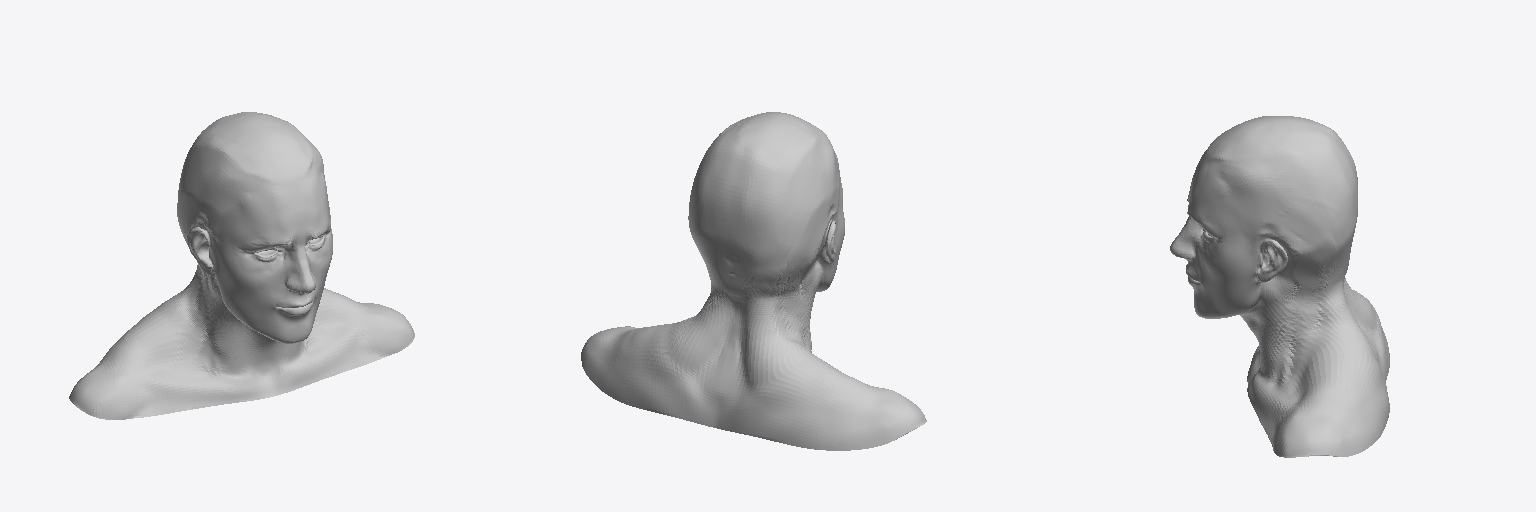
File: Head Start.OBJ
3 renders of one model, left to right at view 1: azimuth 30°, elevation 25°; view 2: azimuth 150°, elevation 25°; view 3: azimuth 270°, elevation 25°, orthographic.
Visible parts, largest first — view 1: Group48944; view 2: Group48944; view 3: Group48944.
Part boxes in pixels (left/top/right/bottom): Group48944: left=69, top=112, right=414, bottom=419; Group48944: left=581, top=112, right=926, bottom=450; Group48944: left=1170, top=116, right=1389, bottom=457.
Bounding box in the file's own units: 2 × 1.54 × 1.14.